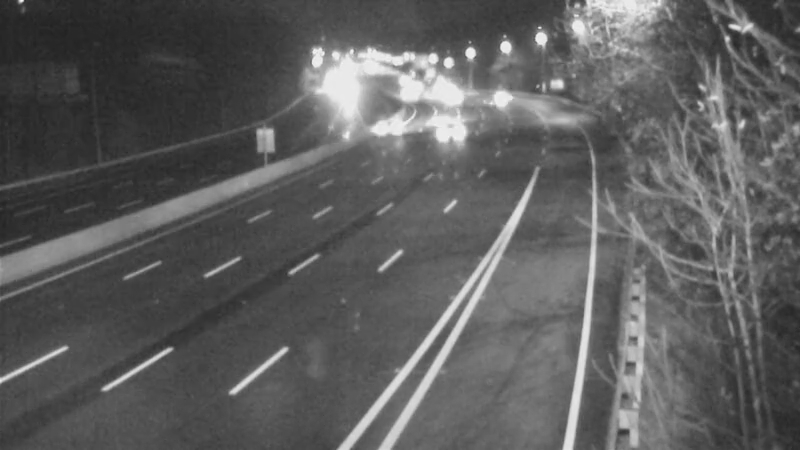vehicle: (383, 66, 433, 116), (429, 72, 479, 122), (487, 70, 537, 120), (408, 96, 458, 146), (427, 102, 477, 152), (367, 100, 417, 150)
